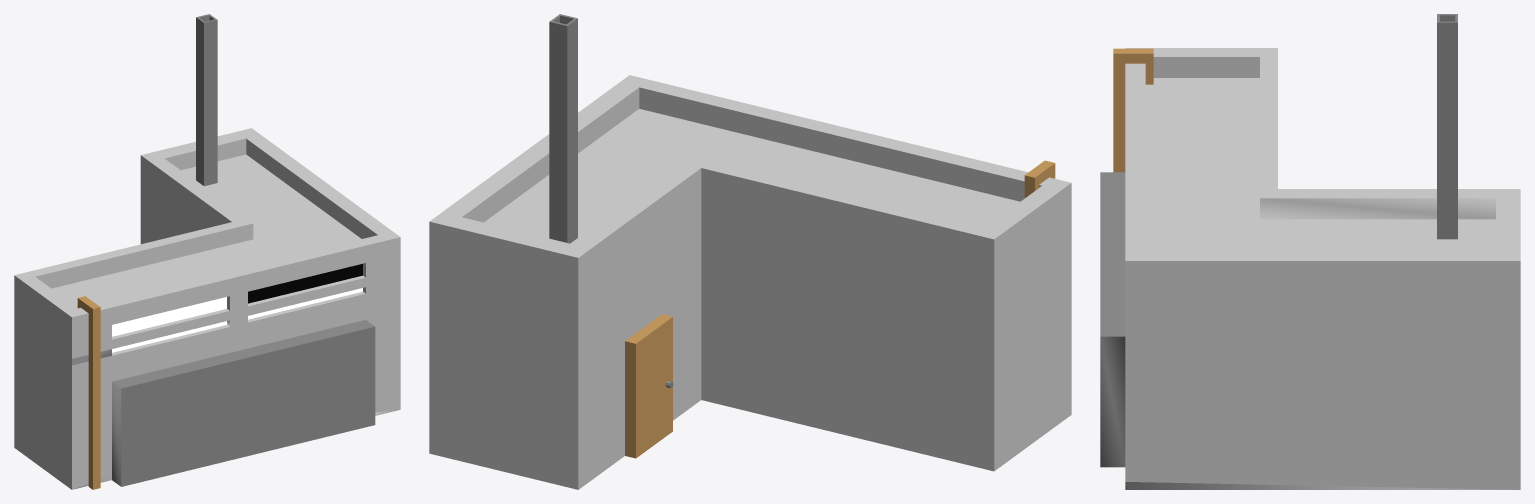
File: bFactory2.glb
3 views of the same model, side by side, from view 1: azimuth 30°, elevation 25°; view 2: azimuth 150°, elevation 25°; view 3: azimuth 270°, elevation 25° (orthographic). The views are drawn at different scales.
Parts seen in each view (by area): view 1: Завод; view 2: Завод; view 3: Завод.
Part boxes in pixels (x1=…): Завод: x1=14, y1=14, x2=400, y2=489; Завод: x1=429, y1=14, x2=1071, y2=489; Завод: x1=1100, y1=14, x2=1520, y2=489.
Bounding box in the file's own units: 12.9 × 12.03 × 10.76.
